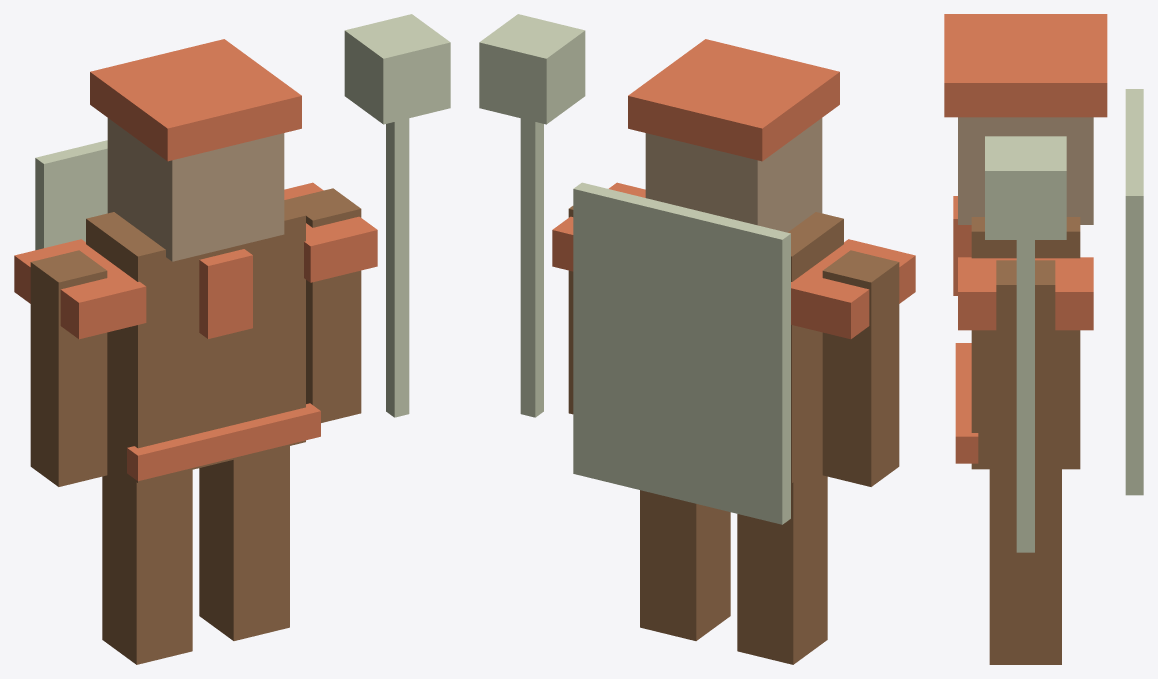
File: 14_nix_frostrelay_captain_of_retrieval.glb
3 views of the same model, side by side, from view 1: azimuth 30°, elevation 25°; view 2: azimuth 150°, elevation 25°; view 3: azimuth 270°, elevation 25° (orthographic). The views are drawn at different scales.
Parts seen in each view (by area): view 1: Nix Frostrelay, Captain of Retrieval; view 2: Nix Frostrelay, Captain of Retrieval; view 3: Nix Frostrelay, Captain of Retrieval.
Part boxes in pixels (x1=…): Nix Frostrelay, Captain of Retrieval: x1=14, y1=14, x2=450, y2=664; Nix Frostrelay, Captain of Retrieval: x1=479, y1=14, x2=915, y2=664; Nix Frostrelay, Captain of Retrieval: x1=944, y1=14, x2=1143, y2=664.
Bounding box in the file's own units: 1.12 × 1.52 × 0.4761.
